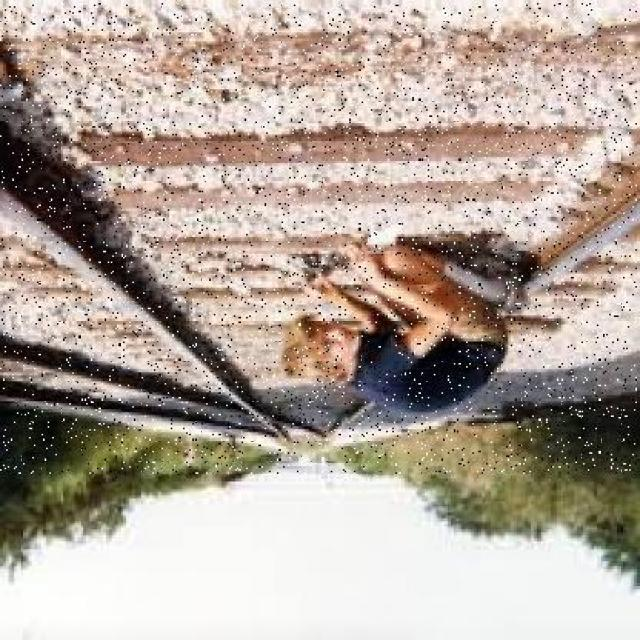danger: (280, 234, 532, 417)
rail: (0, 3, 637, 473)
